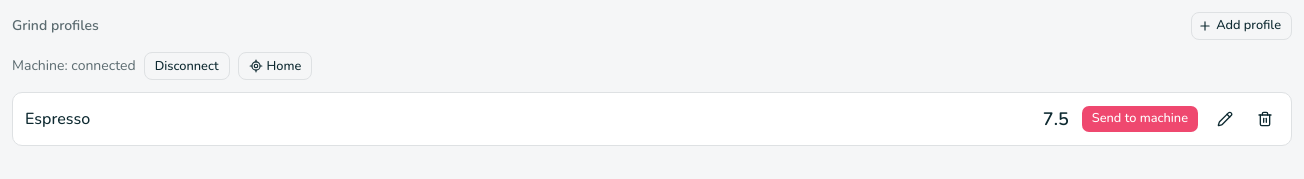
GrinderPanel › shows a neutral note when no OK arrives
Click the button "Send to machine" at (1140, 119), box [1081,105,1199,133]
Wait 2001 ms
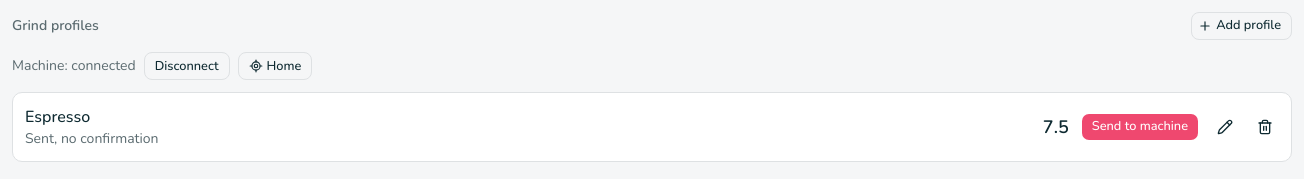
Check: the text "Sent, no confirmation" is shown, box [25,129,158,149]
